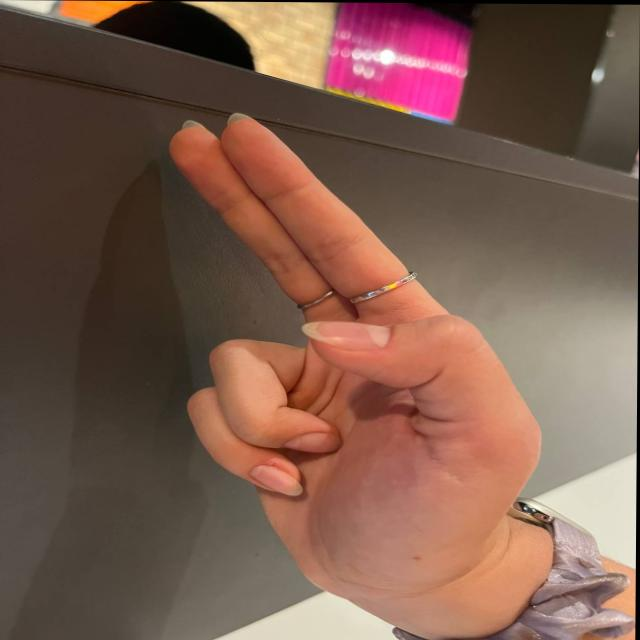d: (117, 76, 586, 535)
